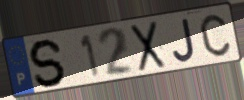1: (78, 33, 101, 80)
2: (97, 26, 137, 80)
C: (198, 12, 233, 58)
J: (171, 17, 197, 64)
S: (28, 37, 68, 88)
X: (129, 19, 168, 74)
